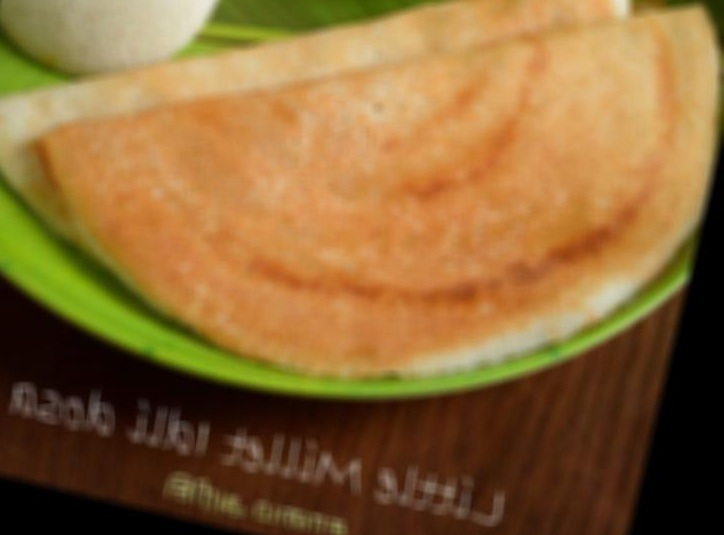dosa: (35, 9, 724, 386)
